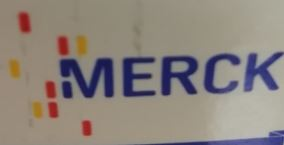Merck: (7, 10, 283, 140)
